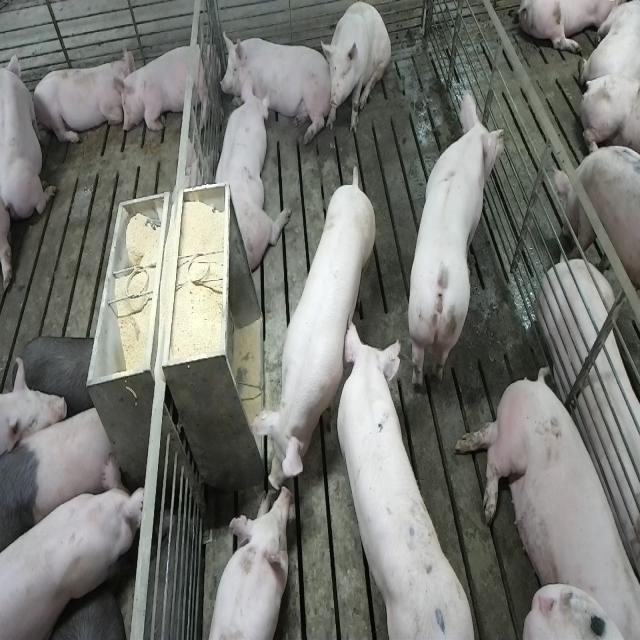Lateral_lying: (453, 362, 635, 636), (538, 257, 640, 581), (15, 330, 101, 417)
Sitting: (322, 3, 390, 139)
Standing: (335, 331, 481, 640), (254, 172, 378, 493), (406, 91, 506, 397), (2, 465, 143, 640), (2, 396, 118, 574), (553, 145, 640, 355)
Sternal_lying: (210, 84, 283, 274), (202, 483, 290, 638), (220, 27, 328, 138), (116, 37, 215, 139), (2, 42, 56, 224), (31, 52, 130, 150)
